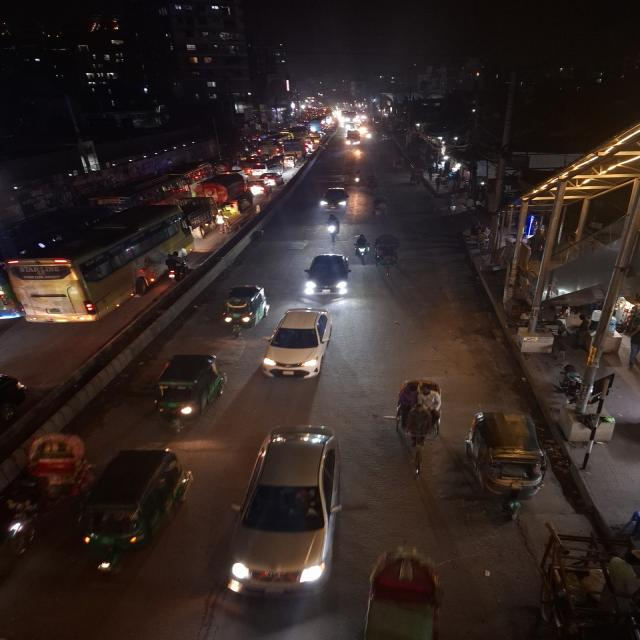bus: (7, 202, 194, 326), (91, 168, 191, 208)
car: (234, 422, 346, 600), (264, 304, 336, 381), (302, 250, 352, 300), (195, 173, 251, 199), (316, 184, 352, 214), (259, 170, 284, 188)
cng: (75, 446, 192, 576), (465, 408, 551, 523), (152, 351, 228, 429), (218, 282, 269, 338), (221, 190, 255, 217)
motorcycle: (163, 250, 190, 283), (322, 212, 346, 243), (353, 232, 372, 264)
rickshaw: (2, 430, 89, 546), (390, 375, 448, 479), (371, 232, 404, 272), (369, 195, 391, 221)
truck: (280, 139, 306, 160)
